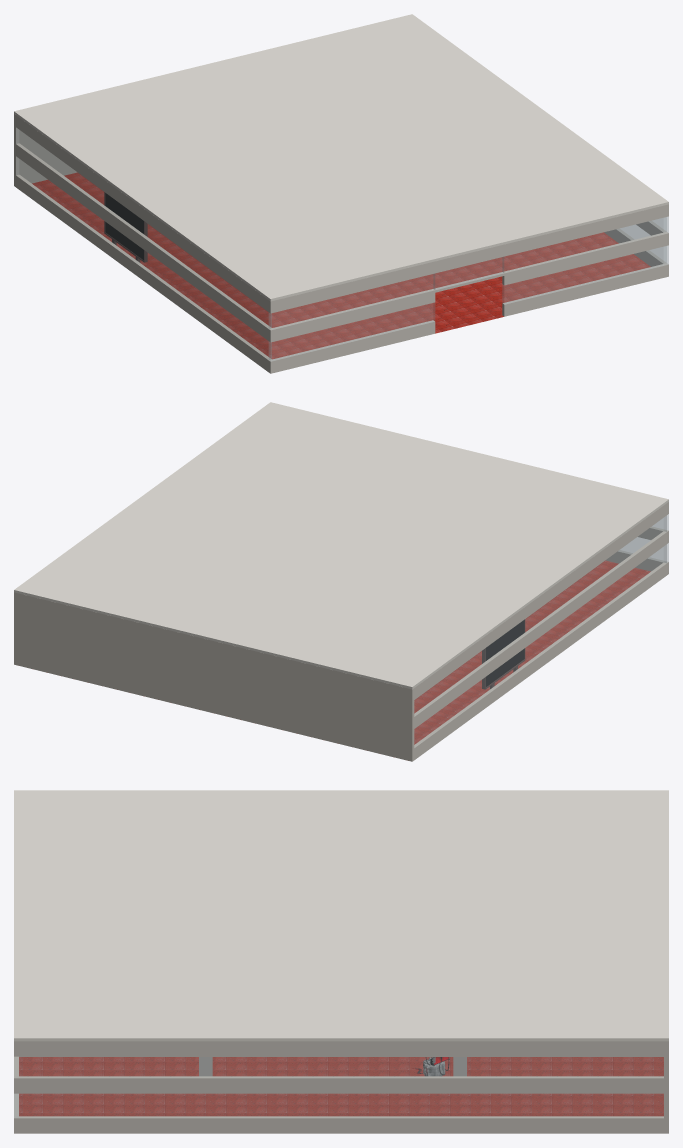
Rendered from inner-1.glb.
The picture shows the model from 3 angles, top to bottom: view 1: azimuth 30°, elevation 25°; view 2: azimuth 150°, elevation 25°; view 3: azimuth 270°, elevation 25°; orthographic projection. The views are drawn at different scales.
Parts seen in each view (by area): view 1: IN_ceiling, IN_floor, IN_glass_w_1, IN_glass_w_3, IN_wall_w_2, IN_wall_w_0, IN_glass_se_1, IN_wall_w_4, IN_glass_sw_1, IN_glass_se_3, IN_glass_sw_3, IN_wall_sw_2 (+10 smaller); view 2: IN_ceiling, IN_wall_n, IN_floor, IN_glass_w_1, IN_glass_w_3, IN_wall_w_2, IN_wall_w_0, IN_wall_w_4, EX_display; view 3: IN_ceiling, IN_floor, IN_glass_e_1, IN_glass_e_3, IN_wall_e_0, IN_wall_e_2, IN_wall_e_4.
Boxes of the visible parts, x1=… form: IN_ceiling: x1=14, y1=14, x2=668, y2=301; IN_floor: x1=32, y1=172, x2=650, y2=359; IN_glass_w_1: x1=16, y1=156, x2=271, y2=359; IN_glass_w_3: x1=16, y1=128, x2=271, y2=328; IN_wall_w_2: x1=16, y1=143, x2=271, y2=340; IN_wall_w_0: x1=16, y1=174, x2=271, y2=371; IN_glass_se_1: x1=502, y1=245, x2=668, y2=304; IN_wall_w_4: x1=16, y1=115, x2=268, y2=311; IN_glass_sw_1: x1=269, y1=302, x2=434, y2=361; IN_glass_se_3: x1=502, y1=216, x2=668, y2=272; IN_glass_sw_3: x1=269, y1=274, x2=434, y2=329; IN_wall_sw_2: x1=268, y1=289, x2=435, y2=342; IN_ceiling: x1=14, y1=402, x2=668, y2=689; IN_wall_n: x1=14, y1=592, x2=414, y2=761; IN_floor: x1=414, y1=560, x2=650, y2=744; IN_glass_w_1: x1=414, y1=544, x2=666, y2=746; IN_glass_w_3: x1=414, y1=516, x2=666, y2=715; IN_wall_w_2: x1=414, y1=531, x2=666, y2=728; IN_wall_w_0: x1=414, y1=562, x2=666, y2=759; IN_wall_w_4: x1=414, y1=503, x2=666, y2=699; EX_display: x1=482, y1=619, x2=525, y2=689; IN_ceiling: x1=14, y1=790, x2=668, y2=1041; IN_floor: x1=19, y1=1057, x2=663, y2=1116; IN_glass_e_1: x1=19, y1=1094, x2=663, y2=1117; IN_glass_e_3: x1=19, y1=1057, x2=663, y2=1077; IN_wall_e_0: x1=19, y1=1116, x2=663, y2=1133; IN_wall_e_2: x1=19, y1=1076, x2=663, y2=1093; IN_wall_e_4: x1=19, y1=1041, x2=663, y2=1056.
Bounding box in the file's own units: 34.6 × 6.2 × 38.6.
13 materials, 8 textured.
